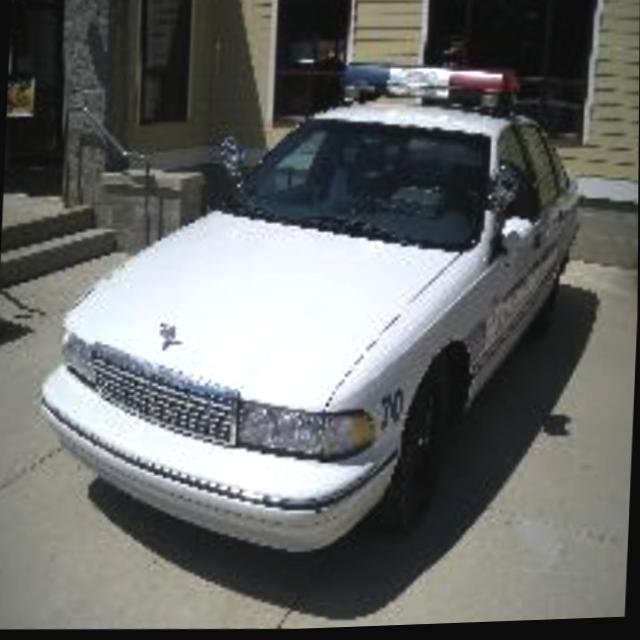emergency: (30, 52, 588, 573)
